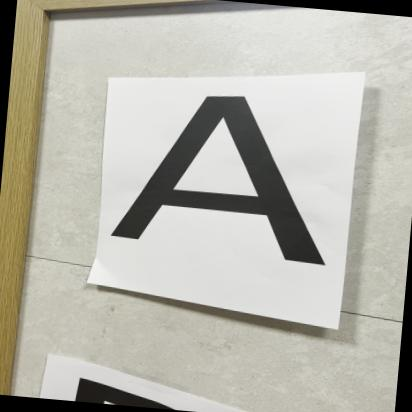seat: (98, 75, 362, 292)
